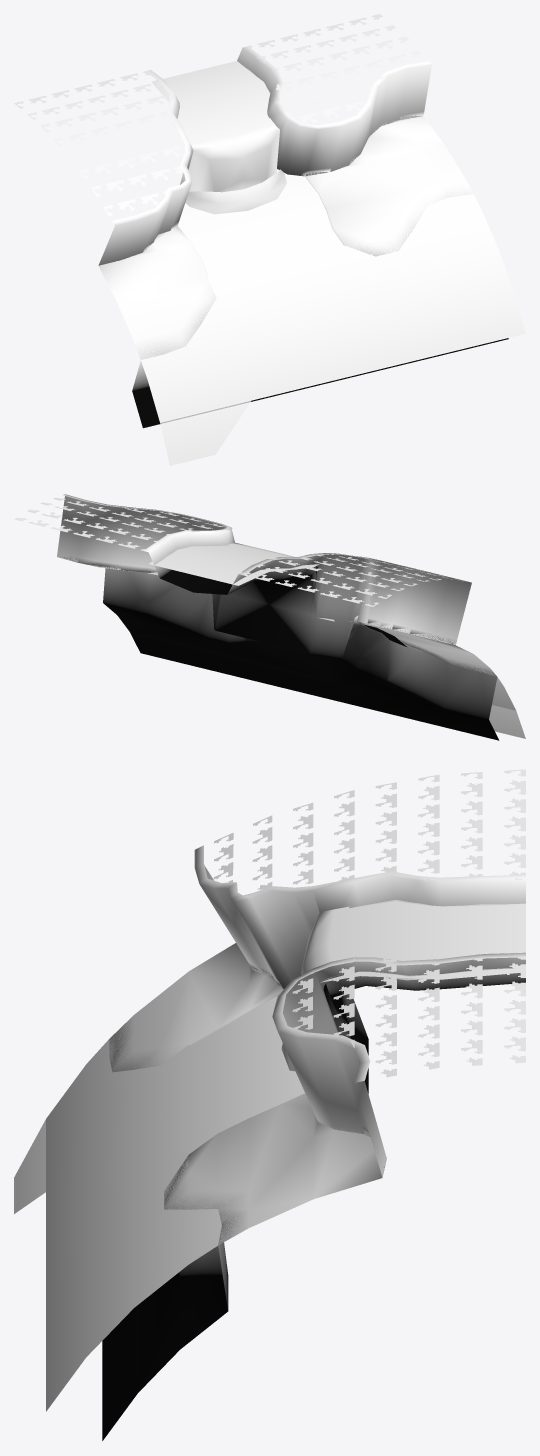
File: grd_Mse_s_R_1.dae
3 renders of one model, top to bottom at view 1: azimuth 30°, elevation 25°; view 2: azimuth 150°, elevation 25°; view 3: azimuth 270°, elevation 25°, orthographic. The views are drawn at different scales.
Parts seen in each view (by area): view 1: grd_Mse_s_R_1; view 2: grd_Mse_s_R_1; view 3: grd_Mse_s_R_1.
Part boxes in pixels (x1,y1,x2,y2): grd_Mse_s_R_1: [14, 14, 525, 465]; grd_Mse_s_R_1: [14, 494, 525, 740]; grd_Mse_s_R_1: [14, 769, 525, 1440].
Bounding box in the file's own units: 512 × 332 × 378.
Materials: 10 (1 with a texture image).
